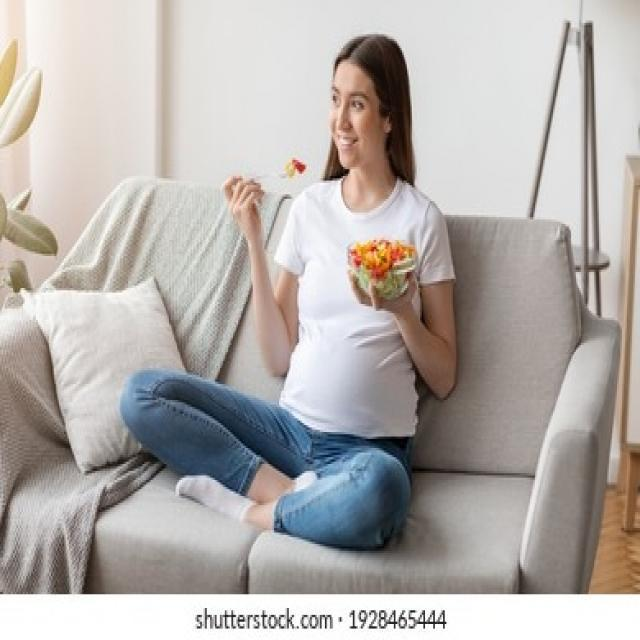sitting: (117, 34, 488, 558)
